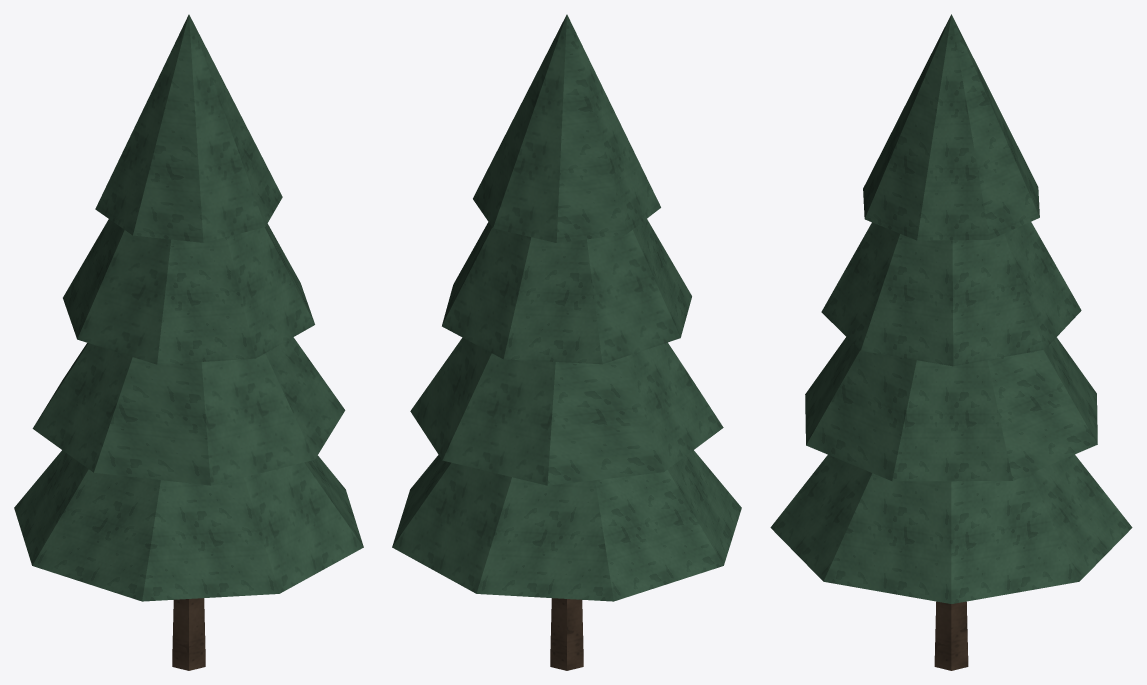
The model's file is pine_tree_b.glb.
3 renders of one model, left to right at view 1: azimuth 30°, elevation 25°; view 2: azimuth 150°, elevation 25°; view 3: azimuth 270°, elevation 25°, orthographic.
Visible parts, largest first — view 1: PineTreeB; view 2: PineTreeB; view 3: PineTreeB.
Boxes of the visible parts, x1,y1,x2,y2 form: PineTreeB: (14, 14, 363, 670); PineTreeB: (392, 14, 741, 670); PineTreeB: (770, 14, 1132, 670).
Bounding box in the file's own units: 3.67 × 7.26 × 3.67.
2 materials, 2 textured.
